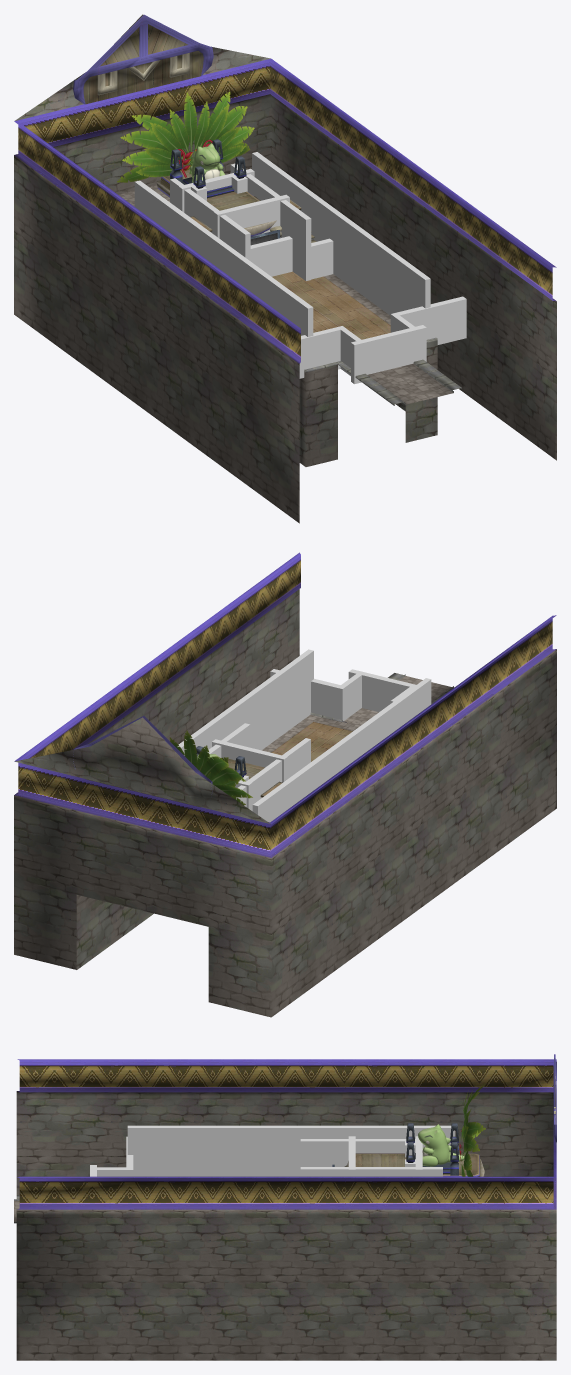
Rendered from CvTrial.glb.
3 views of the same model, one above another, from view 1: azimuth 30°, elevation 25°; view 2: azimuth 150°, elevation 25°; view 3: azimuth 270°, elevation 25° (orthographic). The views are drawn at different scales.
Visible parts, largest first — view 1: Scene, COLL_All7, COLL_All6, COLL_All1, COLL_All15, COLL_All2, COLL_All16, COLL_All11, COLL_All3, COLL_All8, COLL_All9, COLL_All12; view 2: Scene, COLL_All7, COLL_All6, COLL_All16, COLL_All1, COLL_All2, COLL_All11, COLL_All4, COLL_All15; view 3: Scene, COLL_All6, COLL_All16, COLL_All15.
Boxes of the visible parts, left/top/right/bottom form: Scene: left=14, top=14, right=556, bottom=523; COLL_All7: left=252, top=152, right=430, bottom=315; COLL_All6: left=134, top=180, right=313, bottom=336; COLL_All1: left=351, top=325, right=426, bottom=384; COLL_All15: left=230, top=163, right=311, bottom=280; COLL_All2: left=390, top=296, right=466, bottom=344; COLL_All16: left=170, top=178, right=250, bottom=260; COLL_All11: left=214, top=194, right=289, bottom=238; COLL_All3: left=299, top=326, right=345, bottom=378; COLL_All8: left=250, top=236, right=292, bottom=276; COLL_All9: left=311, top=238, right=333, bottom=279; COLL_All12: left=178, top=168, right=254, bottom=212; Scene: left=14, top=552, right=556, bottom=1017; COLL_All7: left=177, top=649, right=313, bottom=756; COLL_All6: left=252, top=678, right=431, bottom=822; COLL_All16: left=236, top=738, right=310, bottom=810; COLL_All1: left=348, top=669, right=415, bottom=711; COLL_All2: left=270, top=669, right=345, bottom=721; COLL_All11: left=212, top=739, right=287, bottom=782; COLL_All4: left=339, top=673, right=361, bottom=720; COLL_All15: left=207, top=723, right=250, bottom=758; Scene: left=14, top=1054, right=556, bottom=1360; COLL_All6: left=127, top=1125, right=455, bottom=1176; COLL_All16: left=300, top=1139, right=424, bottom=1166; COLL_All15: left=300, top=1167, right=442, bottom=1176.
Bounding box in the file's own units: 30.39 × 30.45 × 58.73.
Materials: 12 (12 with a texture image).
